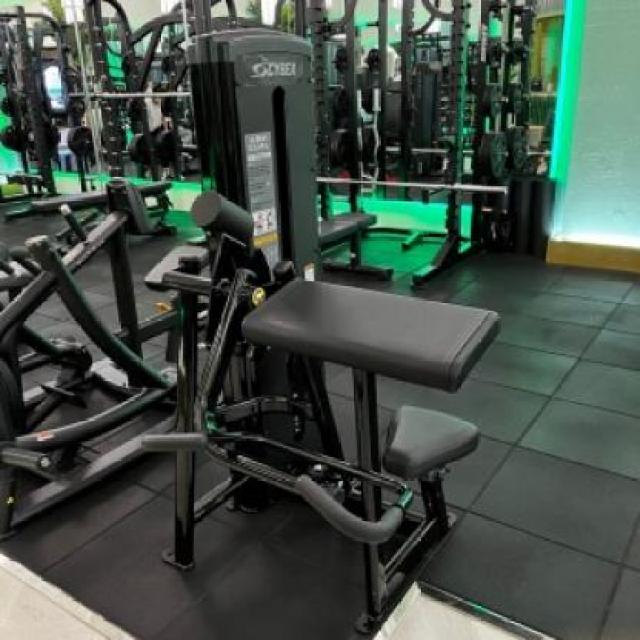arm curl machine: (146, 191, 502, 632)
